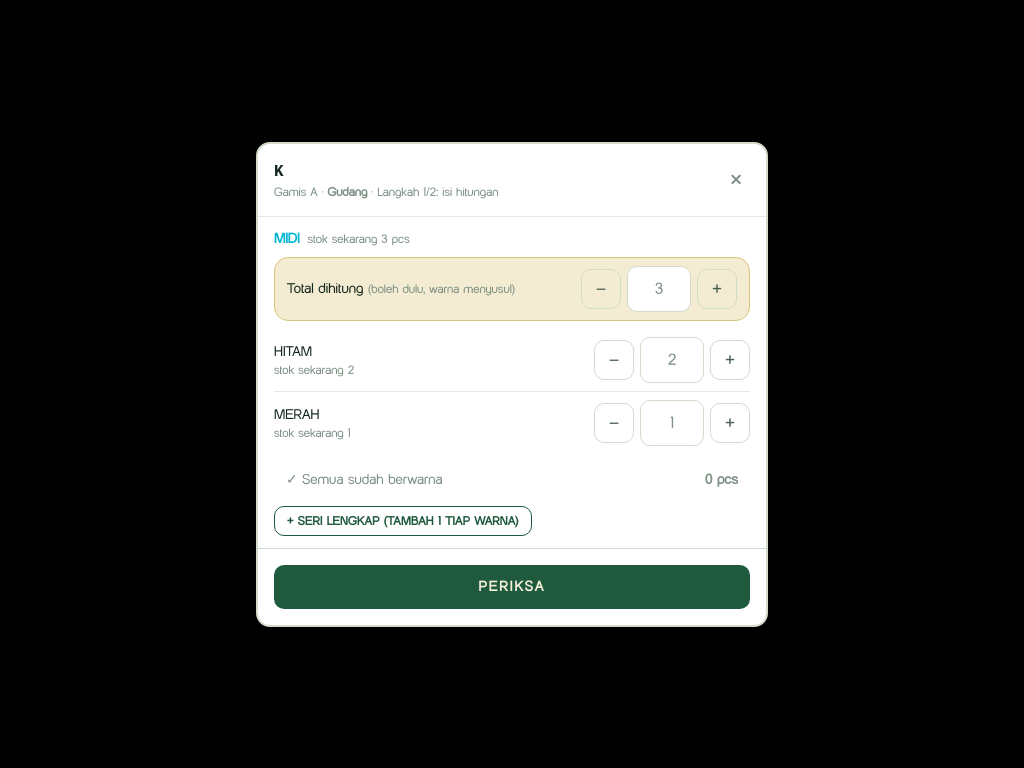
ProductCountSheet › langkah periksa membandingkan total semua lokasi dengan buku potongan
This screenshot has width=1024, height=768.
Step 1. Type "5" into the number field named "HITAM, ukuran Midi" → (672, 360), box top-left (640, 336), bottom-right (704, 382)
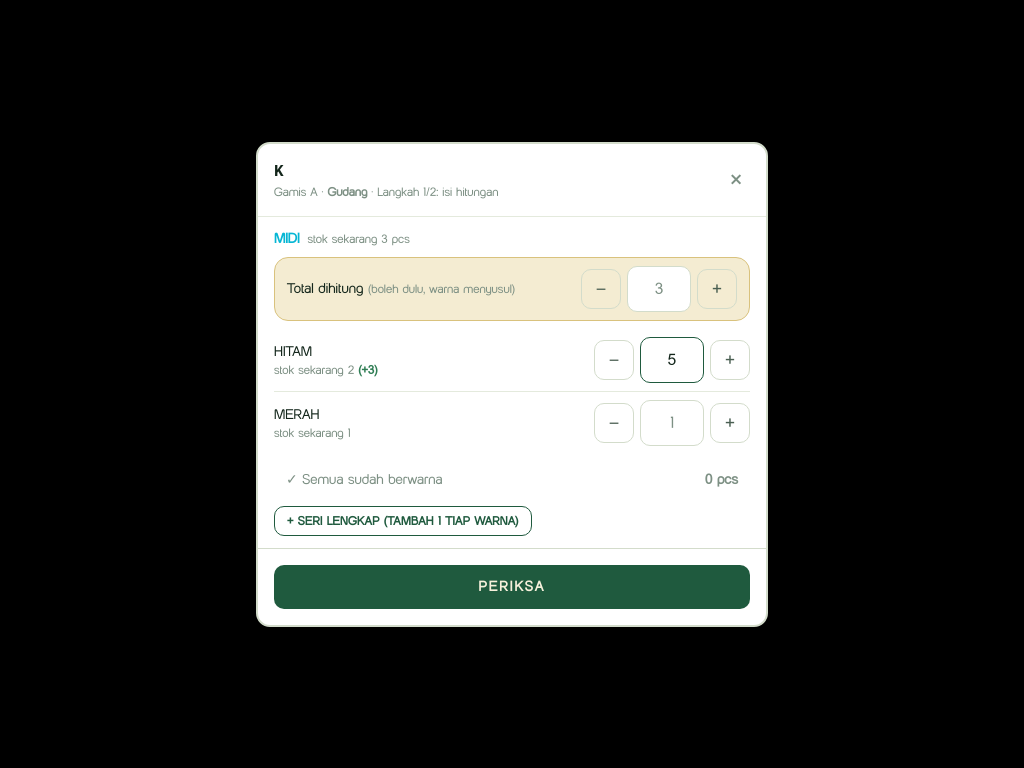
Step 2. Click the button "Periksa" → click(512, 586), box top-left (274, 564), bottom-right (750, 608)
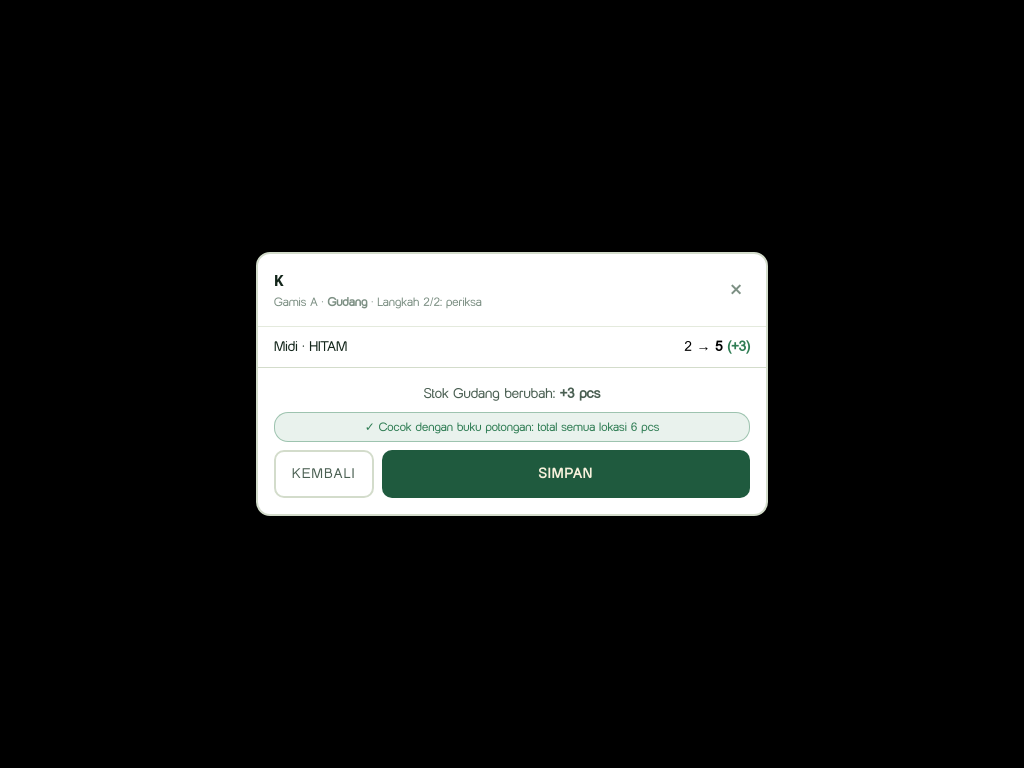
Expected: the text with test id "buku-compare" shows "Cocok dengan buku potongan", top-left (365, 419), bottom-right (659, 434)
